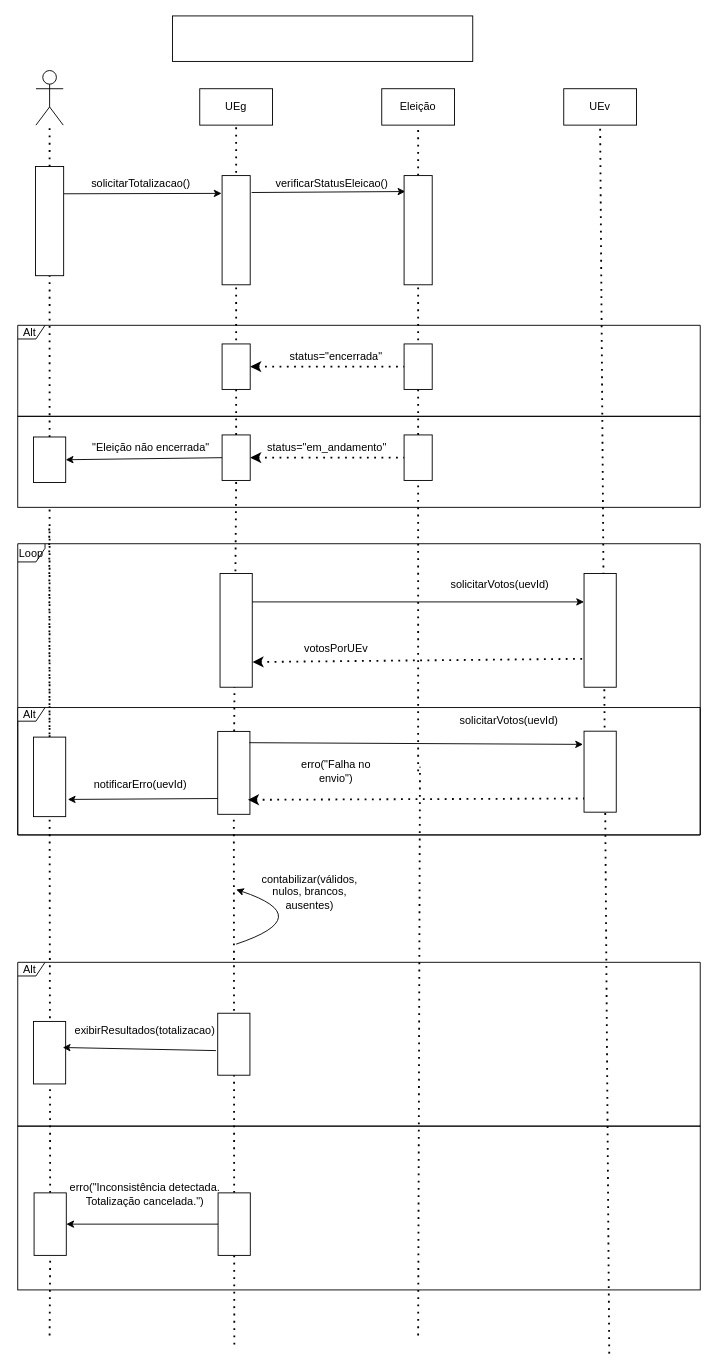
Image size: 716x1371. Some labels were removed from this diagram. The shapes that lost their labels are listed below. From the top down, each one's centre as x and y in pixels, then its label:
pixel 322 38: UC-06 Totalizar Votos
pixel 49 97: Administrador
